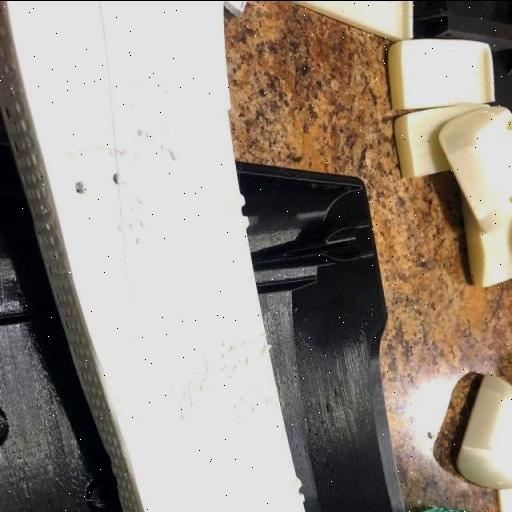blobs: (169, 144, 180, 162), (145, 126, 157, 140), (260, 344, 270, 358), (130, 203, 142, 214), (239, 391, 248, 405), (138, 194, 148, 206), (264, 392, 272, 406), (164, 76, 174, 87), (116, 221, 126, 232), (240, 338, 248, 351), (134, 234, 144, 244), (139, 218, 148, 229), (244, 354, 252, 366), (128, 221, 136, 232), (228, 342, 236, 353), (137, 126, 145, 136), (130, 80, 138, 90), (138, 78, 146, 88), (164, 86, 172, 96), (160, 140, 168, 150), (246, 337, 254, 347), (220, 363, 228, 373), (220, 350, 228, 360), (219, 340, 229, 348), (250, 404, 260, 412), (236, 412, 244, 422), (260, 330, 266, 340), (232, 362, 238, 372), (136, 151, 142, 159), (132, 100, 138, 108), (254, 387, 260, 394), (232, 404, 238, 410), (270, 408, 276, 414), (238, 356, 242, 364)
